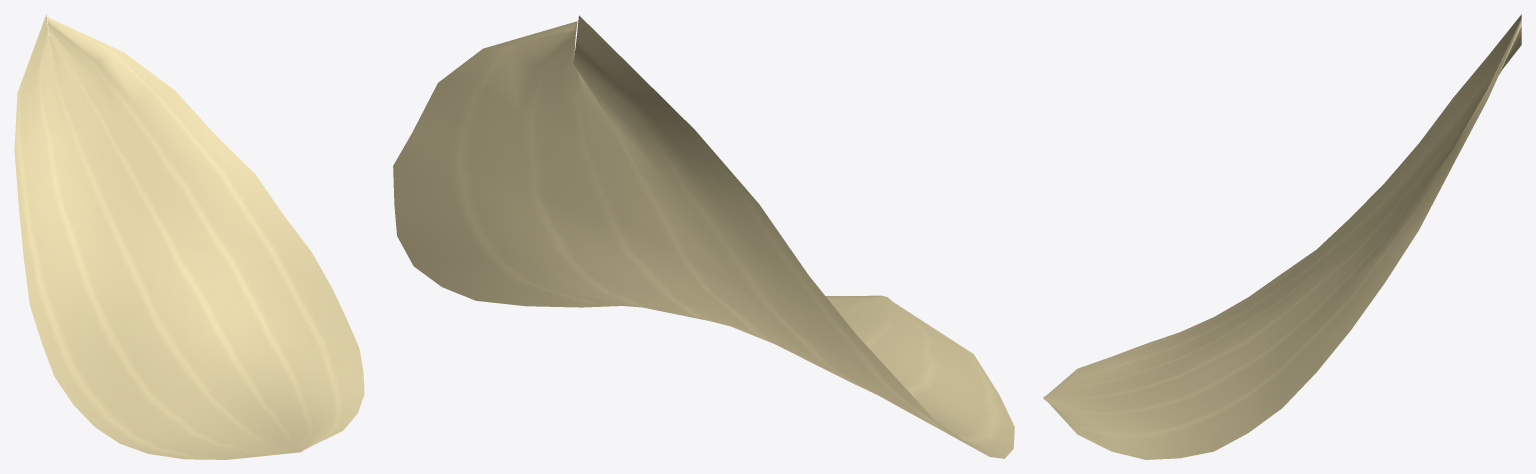
File: petal_08_large.glb
3 views of the same model, side by side, from view 1: azimuth 30°, elevation 25°; view 2: azimuth 150°, elevation 25°; view 3: azimuth 270°, elevation 25° (orthographic). The views are drawn at different scales.
Visible parts, largest first — view 1: petal_08_large; view 2: petal_08_large; view 3: petal_08_large.
Boxes of the visible parts, <box> form: petal_08_large: <box>14,14,364,459</box>; petal_08_large: <box>393,15,1014,458</box>; petal_08_large: <box>1043,14,1521,459</box>.
Size of the model in its own units: 0.0997 by 0.1058 by 0.1262.
Materials: 1 (1 with a texture image).
